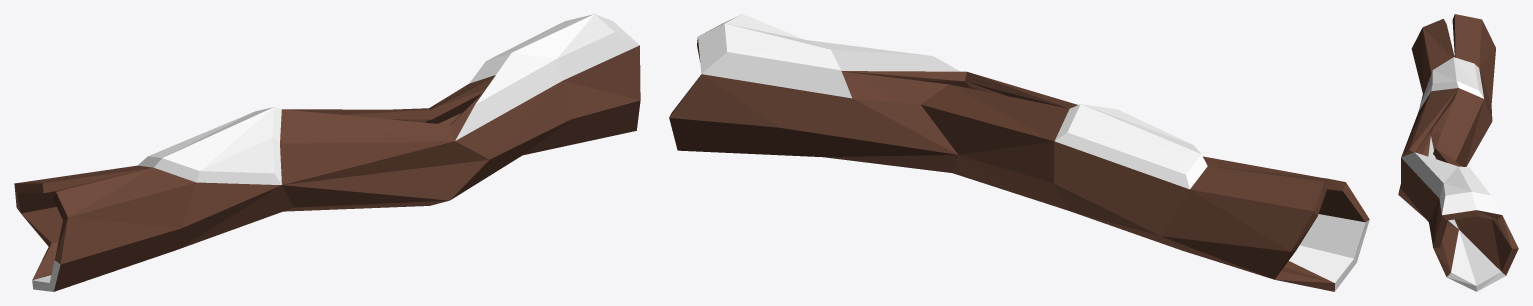
File: Wooden Log_1_Snow.fbx
3 renders of one model, left to right at view 1: azimuth 30°, elevation 25°; view 2: azimuth 150°, elevation 25°; view 3: azimuth 270°, elevation 25°, orthographic. The views are drawn at different scales.
Visible parts, largest first — view 1: Wooden Log_1_Snow; view 2: Wooden Log_1_Snow; view 3: Wooden Log_1_Snow.
Boxes of the visible parts, x1,y1,x2,y2 form: Wooden Log_1_Snow: [14, 14, 640, 291]; Wooden Log_1_Snow: [669, 14, 1369, 291]; Wooden Log_1_Snow: [1398, 14, 1518, 291].
Bounding box in the file's own units: 2.41 × 0.4757 × 0.5825.
